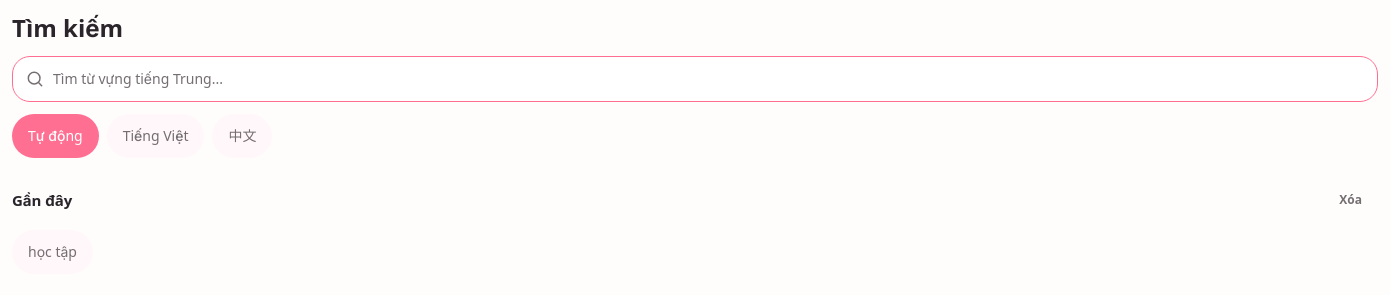
lịch sử tìm kiếm › bấm chip thì điền lại từ khoá vào ô tìm kiếm
The width and height of the screenshot is (1390, 295).
Click the button "học tập": (52, 252) [12, 230, 93, 274]
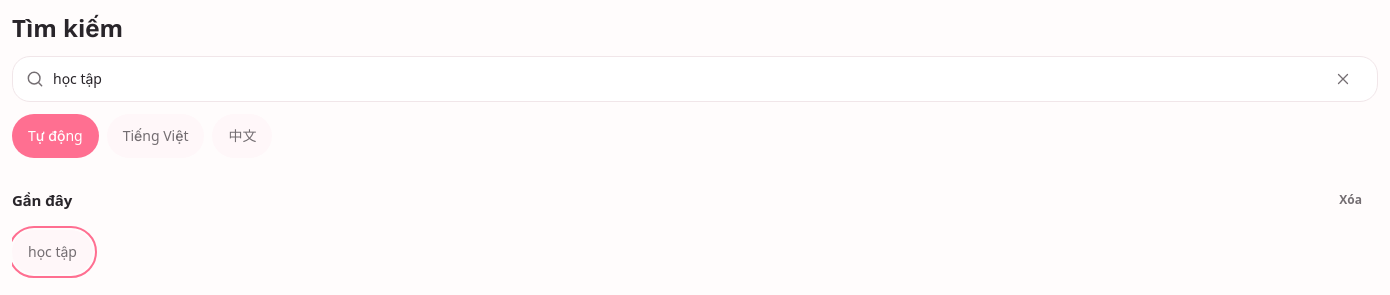
Now the search field holds "học tập", box [53, 57, 1313, 101]
